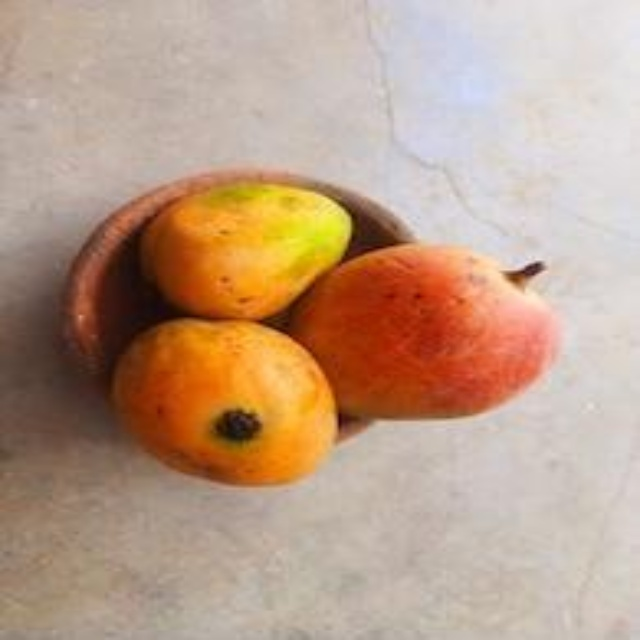mango: (305, 246, 561, 422), (113, 329, 326, 488), (142, 183, 349, 321)
